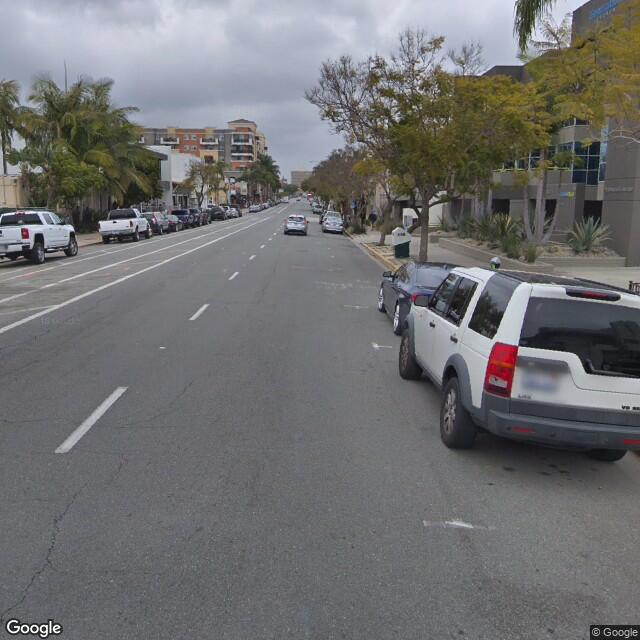road line: (47, 349, 161, 459), (178, 271, 240, 334)
